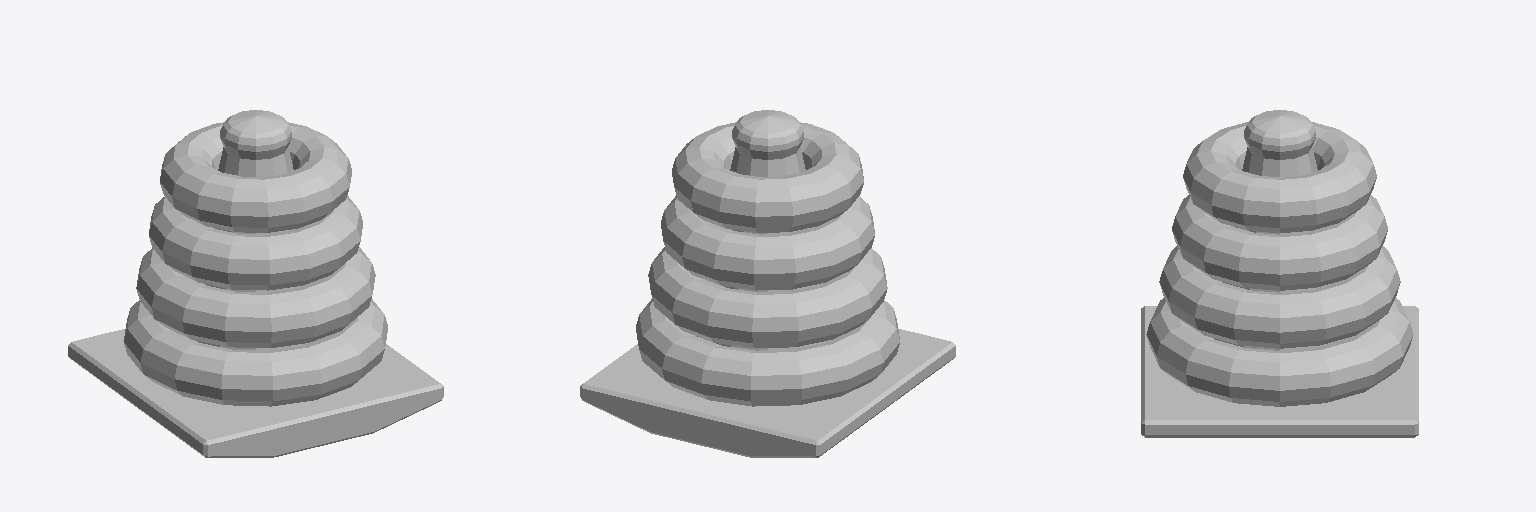
File: Stacking Toy.obj
The picture shows the model from 3 angles: view 1: azimuth 30°, elevation 25°; view 2: azimuth 150°, elevation 25°; view 3: azimuth 270°, elevation 25°; orthographic projection.
Visible parts, largest first — view 1: Circle.003_Circle.002, Torus, Torus.001, Torus.003, Torus.002; view 2: Circle.003_Circle.002, Torus, Torus.001, Torus.003, Torus.002; view 3: Circle.003_Circle.002, Torus, Torus.001, Torus.003, Torus.002.
Part boxes in pixels (left/top/right/bottom): Circle.003_Circle.002: left=68, top=110, right=443, bottom=457; Torus: left=124, top=299, right=387, bottom=406; Torus.001: left=136, top=247, right=375, bottom=347; Torus.003: left=160, top=122, right=351, bottom=232; Torus.002: left=149, top=195, right=362, bottom=290; Circle.003_Circle.002: left=580, top=110, right=955, bottom=457; Torus: left=636, top=299, right=899, bottom=406; Torus.001: left=648, top=247, right=887, bottom=347; Torus.003: left=672, top=122, right=863, bottom=232; Torus.002: left=661, top=195, right=874, bottom=290; Circle.003_Circle.002: left=1141, top=110, right=1418, bottom=437; Torus: left=1146, top=298, right=1413, bottom=406; Torus.001: left=1159, top=246, right=1400, bottom=348; Torus.003: left=1183, top=122, right=1376, bottom=232; Torus.002: left=1172, top=195, right=1387, bottom=290.
Bounding box in the file's own units: 0.7518 × 0.8367 × 0.7518.